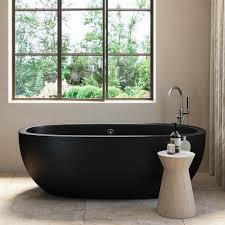bathub: (16, 119, 209, 202)
